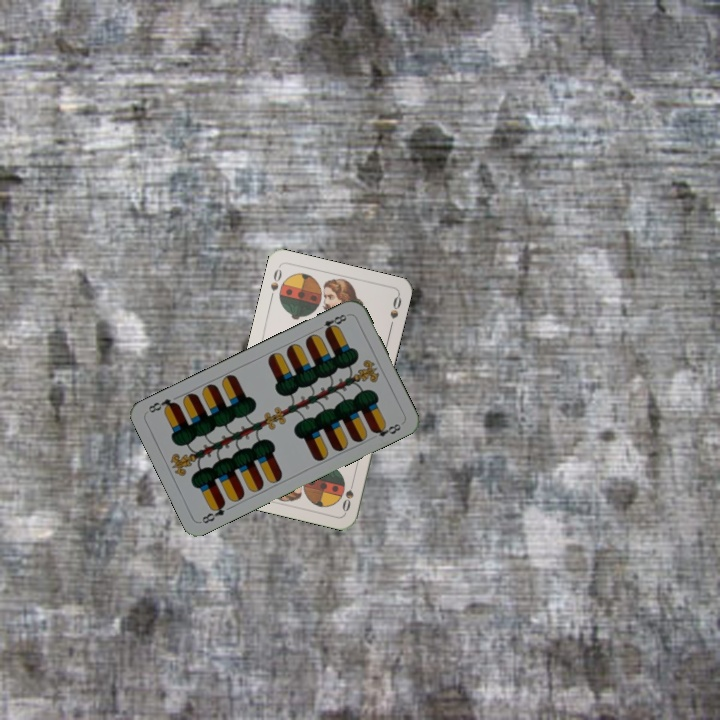E8: (313, 310, 351, 336), (198, 498, 228, 526)
SO: (338, 475, 357, 515), (266, 264, 284, 303)
